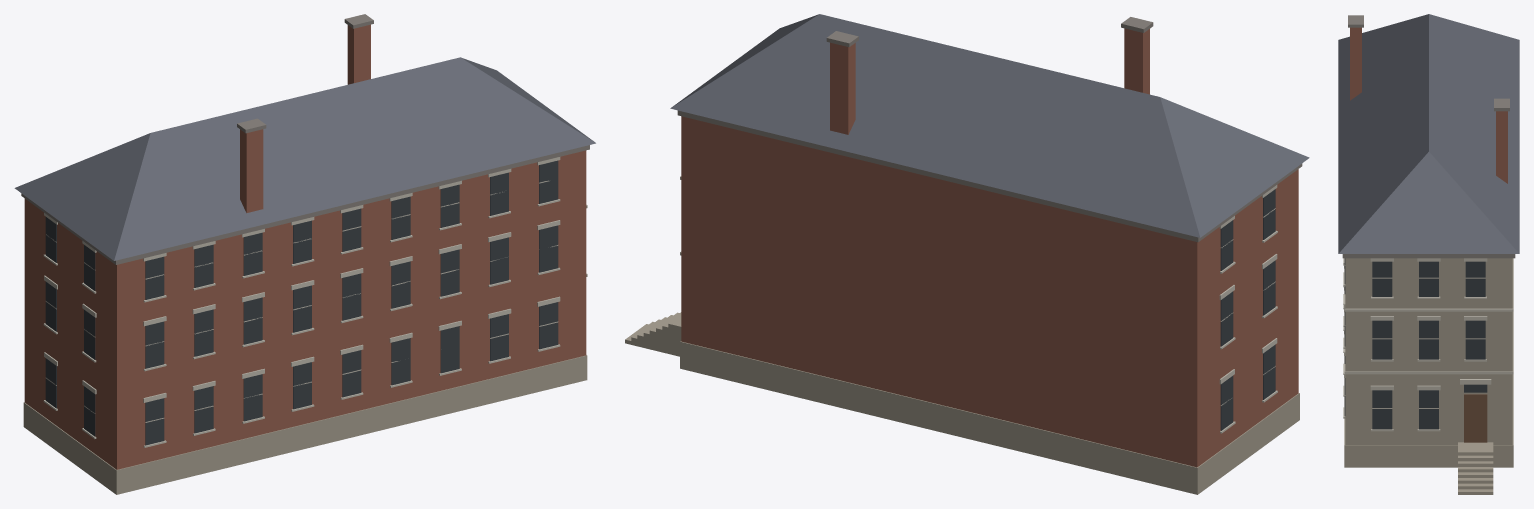
Rendered from house_2004_calumet__draft_1904.glb.
3 views of the same model, side by side, from view 1: azimuth 30°, elevation 25°; view 2: azimuth 150°, elevation 25°; view 3: azimuth 270°, elevation 25° (orthographic). The views are drawn at different scales.
Visible parts, largest first — view 1: house_2004_calumet__draft_1904; view 2: house_2004_calumet__draft_1904; view 3: house_2004_calumet__draft_1904.
Part boxes in pixels (x1,y1,x2,y2): house_2004_calumet__draft_1904: (14,14,595,494); house_2004_calumet__draft_1904: (625,14,1309,494); house_2004_calumet__draft_1904: (1338,14,1519,494).
Size of the model in its own units: 28.65 by 16.87 by 9.2.
